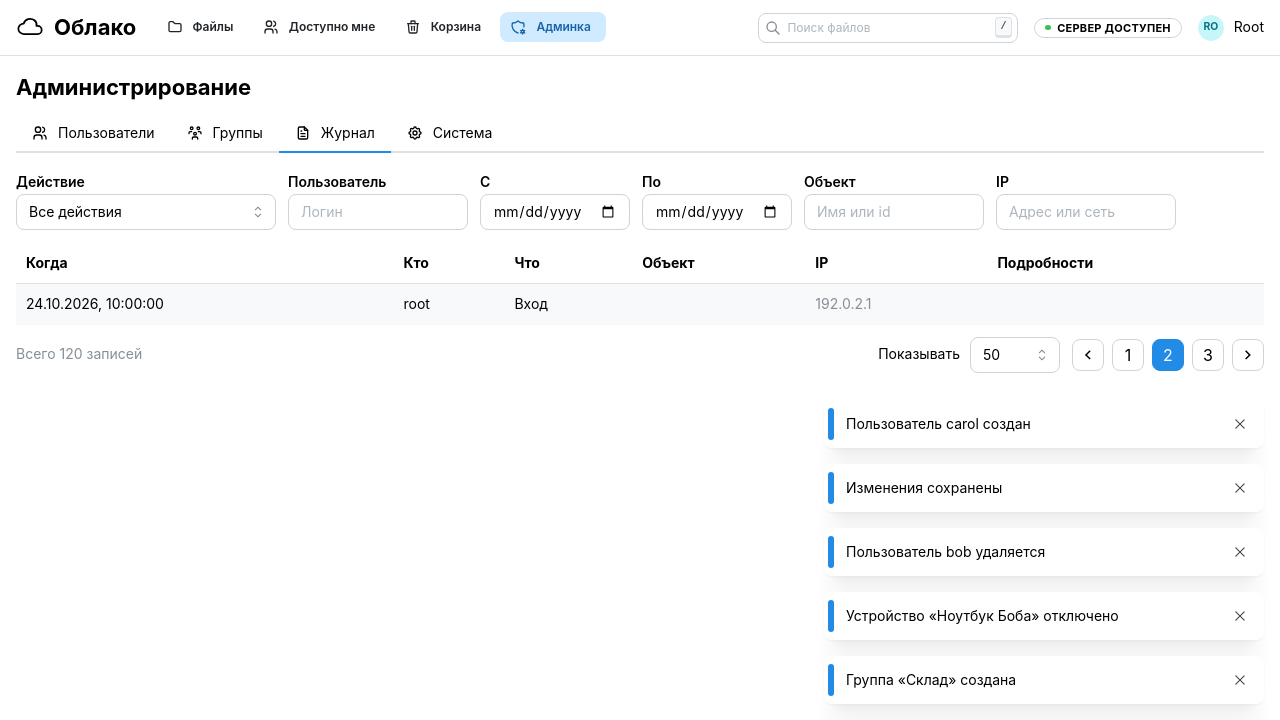
Test case: AdminPage › filters the audit log as you type, back to the first page
Expected: the text "Всего 120 записей" is shown, [16,344,142,365]
Step 1. Type "iv" into the dropdown labelled "Пользователь" → x=378, y=212, box [288,194,468,230]
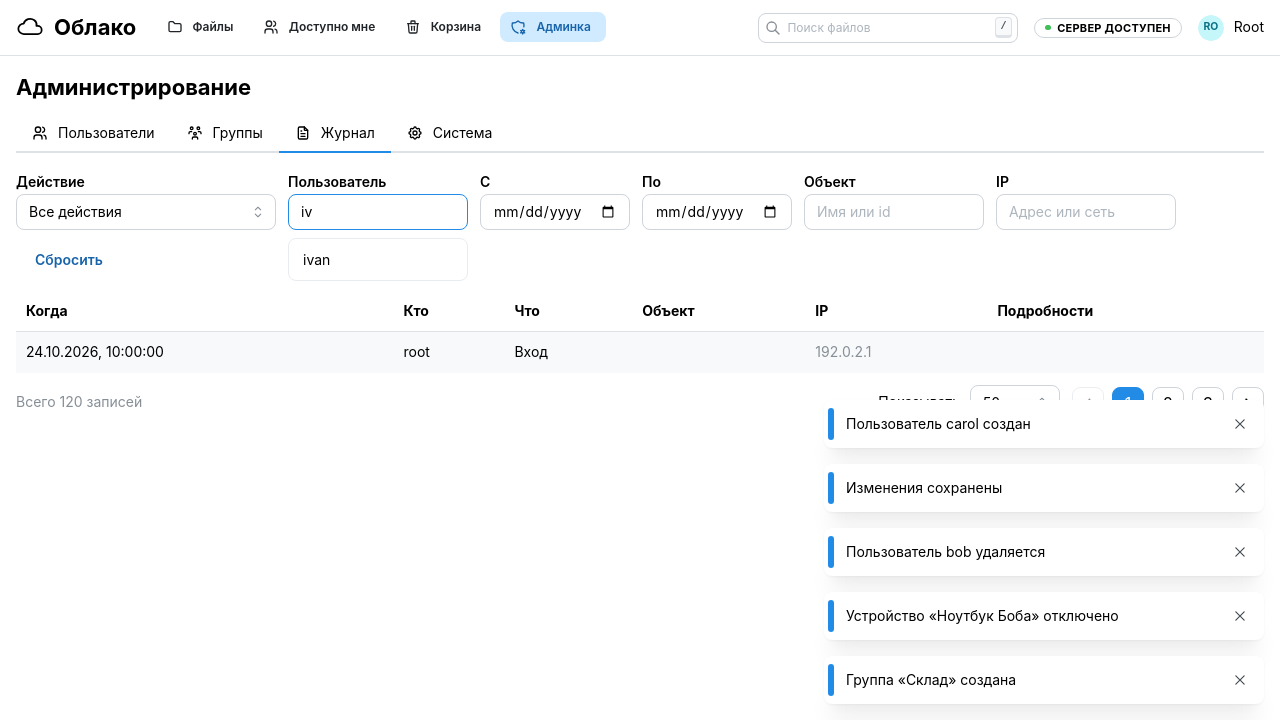
Expected: the option "ivan" is shown, [303,251,330,268]
Step 2. Type "report" into the field labelled "Объект" → x=894, y=212, box [804,194,984,230]
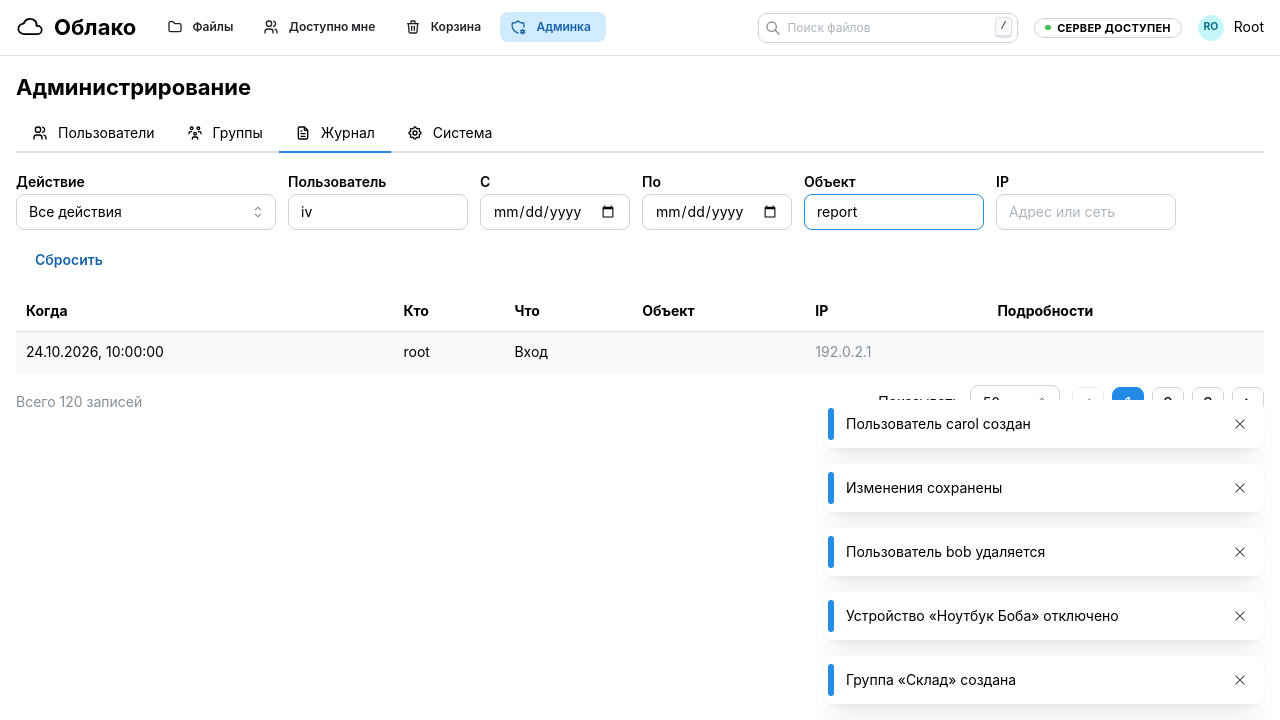
Step 3. Type "10.0.0.1" into the field labelled "IP" → x=1086, y=212, box [996,194,1176,230]
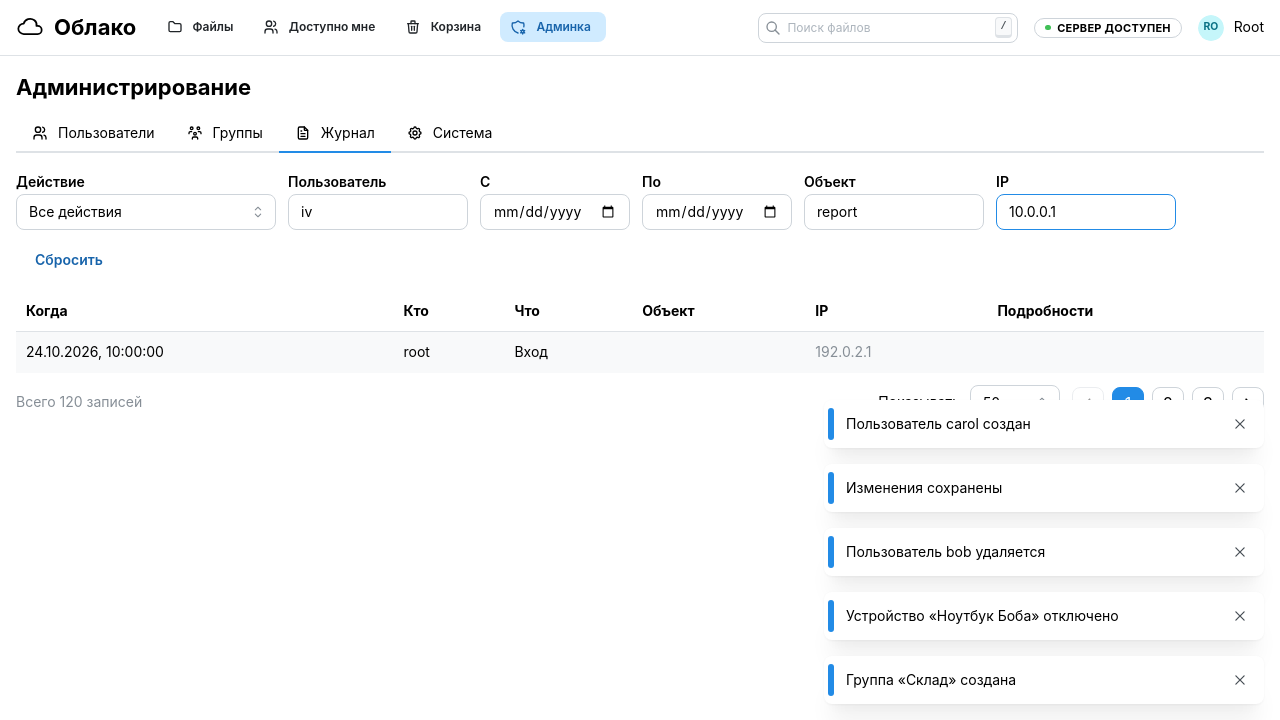
Step 4. Click the button "Сбросить" → x=69, y=260, box [16,242,122,278]
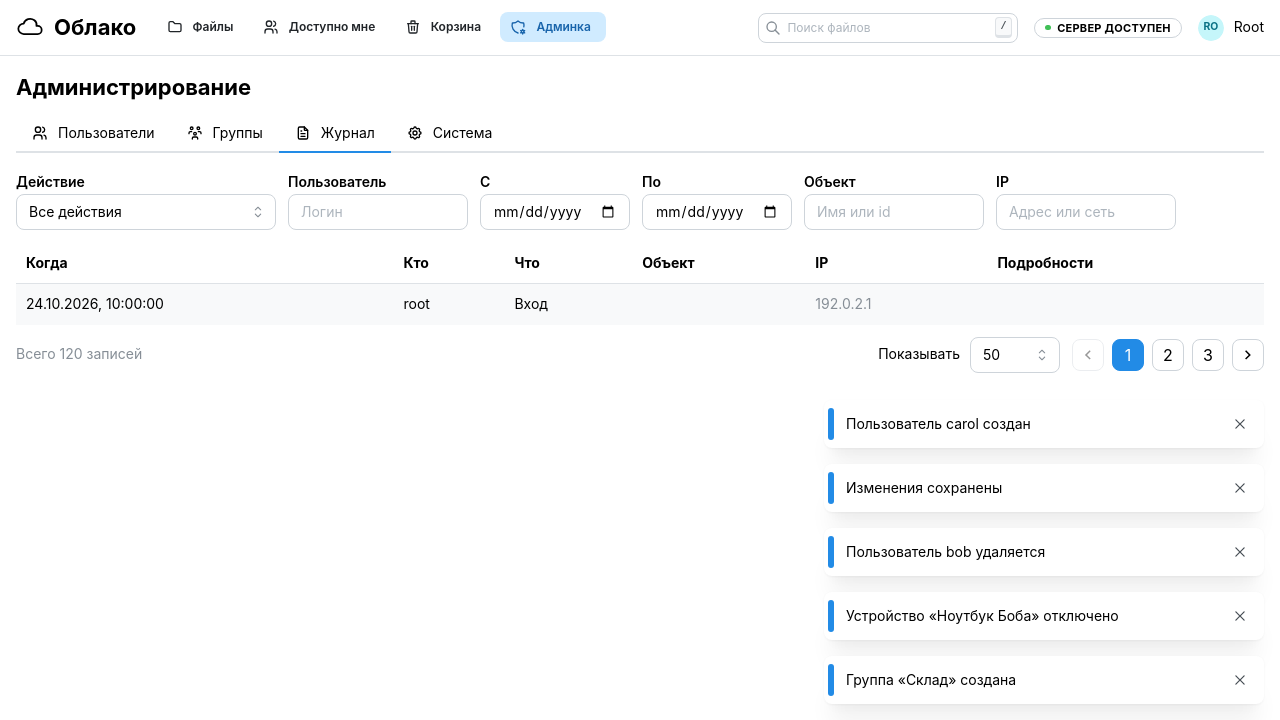
Expected: the dropdown labelled "Пользователь" is empty, [288,194,468,230]
Expected: the button "Сбросить" is gone
